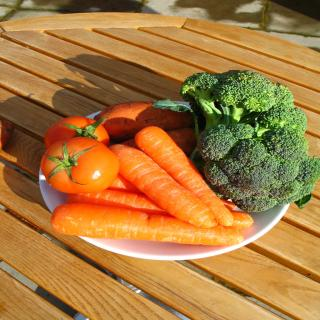tomato: (40, 136, 118, 194), (42, 116, 108, 152)
